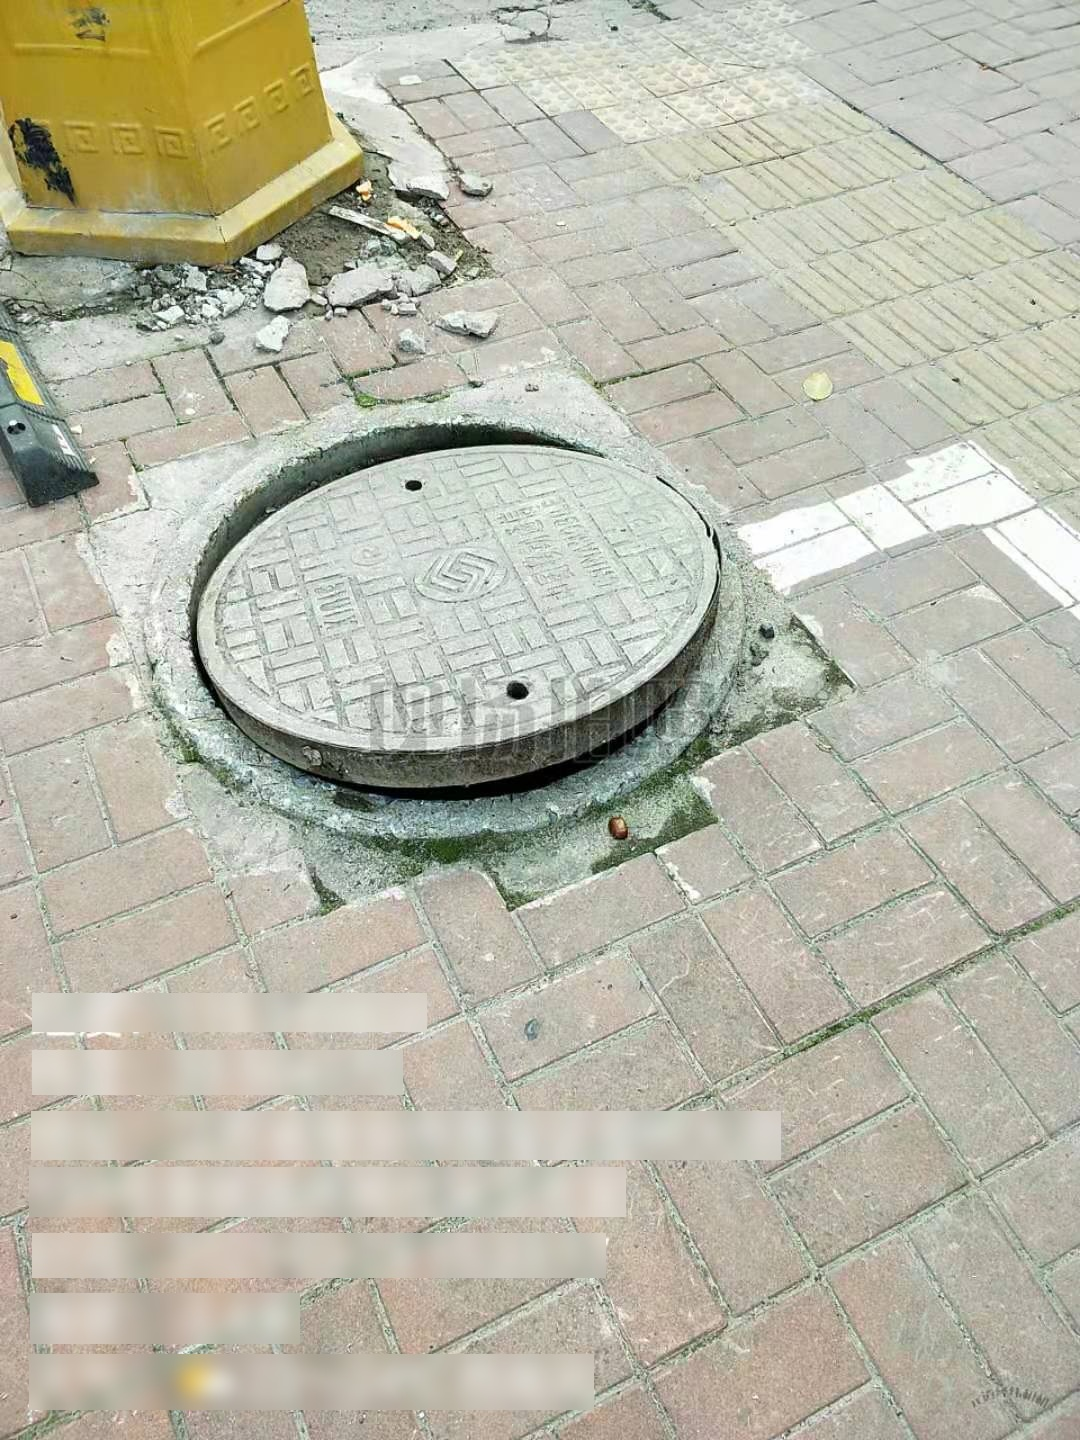uncovered: (153, 403, 731, 844)
